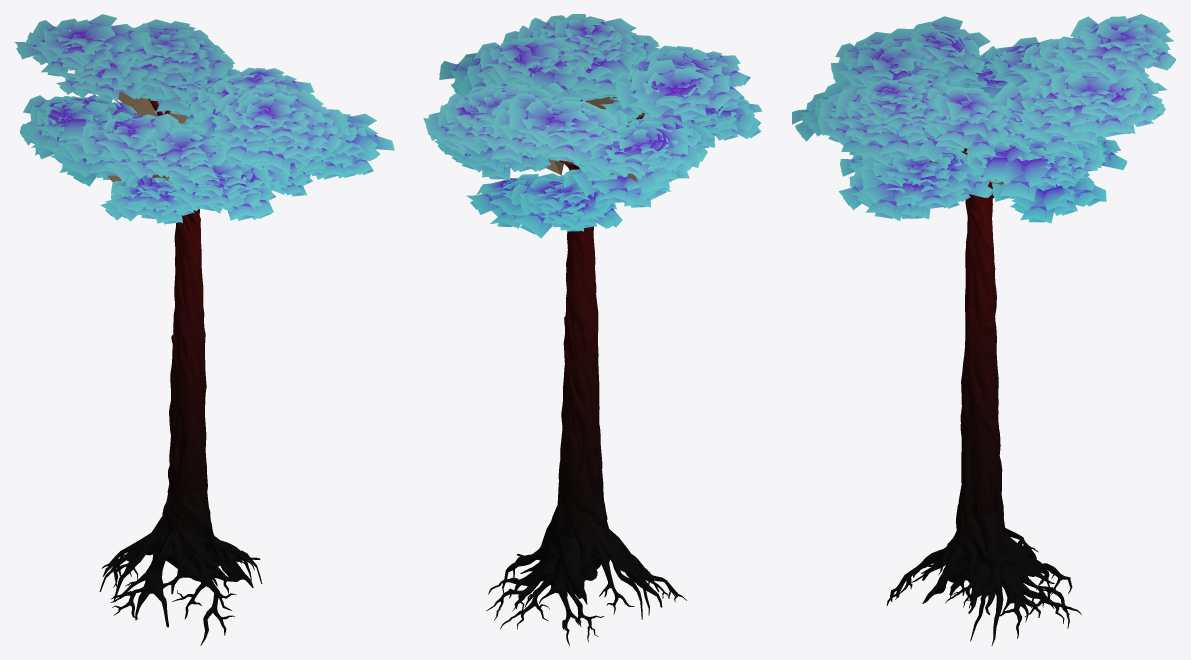
Rendered from SM_Env_Tree_Giant_02.fbx.
3 views of the same model, side by side, from view 1: azimuth 30°, elevation 25°; view 2: azimuth 150°, elevation 25°; view 3: azimuth 270°, elevation 25° (orthographic). The views are drawn at different scales.
Visible parts, largest first — view 1: SM_Env_Tree_Giant_02_LOD0, SM_Env_Tree_Giant_02_Branches_LOD0; view 2: SM_Env_Tree_Giant_02_LOD0, SM_Env_Tree_Giant_02_Branches_LOD0; view 3: SM_Env_Tree_Giant_02_LOD0.
Boxes of the visible parts, x1,y1,x2,y2 form: SM_Env_Tree_Giant_02_LOD0: [14, 14, 394, 645]; SM_Env_Tree_Giant_02_Branches_LOD0: [86, 38, 187, 183]; SM_Env_Tree_Giant_02_LOD0: [423, 14, 762, 645]; SM_Env_Tree_Giant_02_Branches_LOD0: [546, 96, 644, 182]; SM_Env_Tree_Giant_02_LOD0: [792, 14, 1176, 645].
Size of what is drawn, in the model's own units: 4872 by 8520 by 5263.
